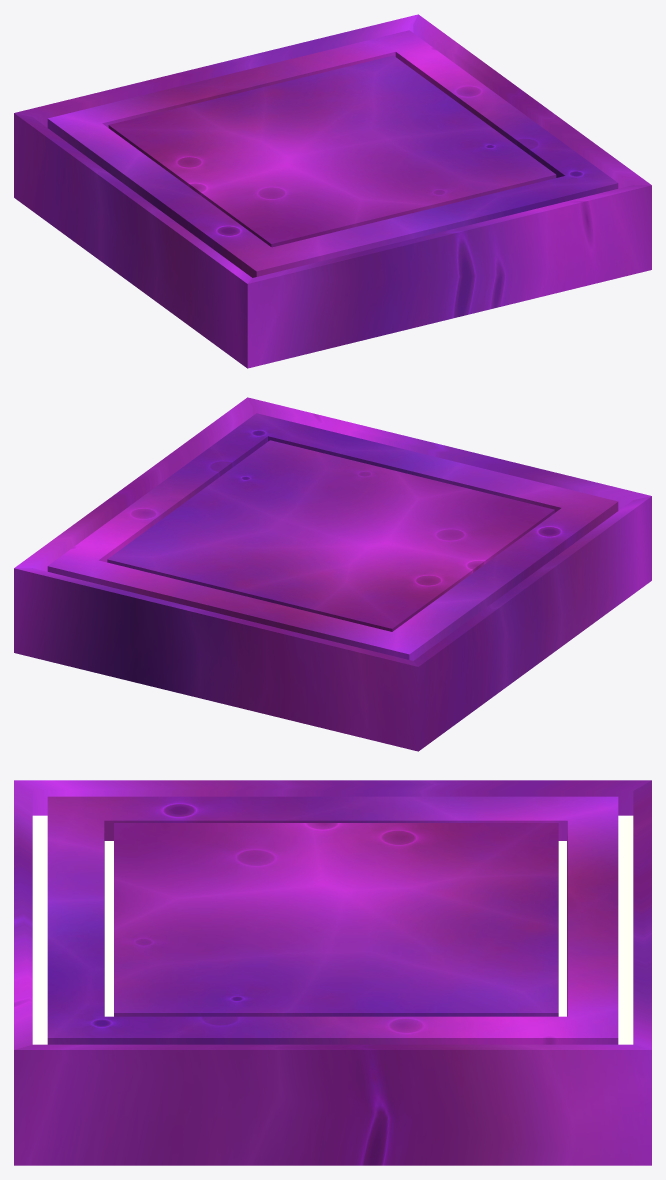
The model's file is TileNew.fbx.
3 renders of one model, top to bottom at view 1: azimuth 30°, elevation 25°; view 2: azimuth 150°, elevation 25°; view 3: azimuth 270°, elevation 25°, orthographic. The views are drawn at different scales.
Parts seen in each view (by area): view 1: Tile.001; view 2: Tile.001; view 3: Tile.001.
Part boxes in pixels (left/top/right/bottom): Tile.001: left=14, top=14, right=651, bottom=368; Tile.001: left=14, top=397, right=651, bottom=751; Tile.001: left=14, top=780, right=651, bottom=1165.
Size of the model in its own units: 100 by 20 by 100.
